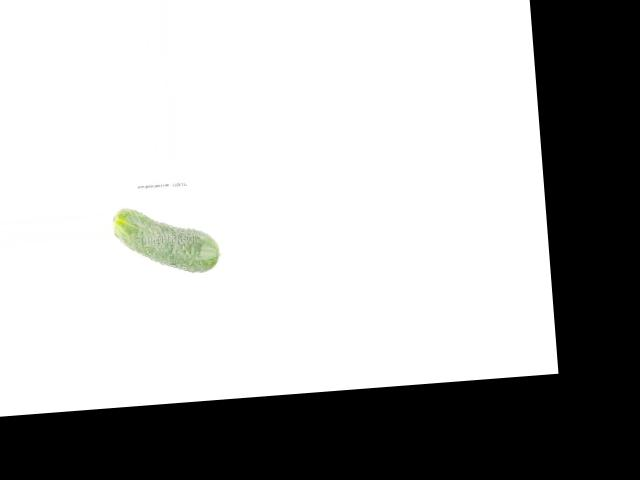cucumber: (112, 201, 221, 278)
